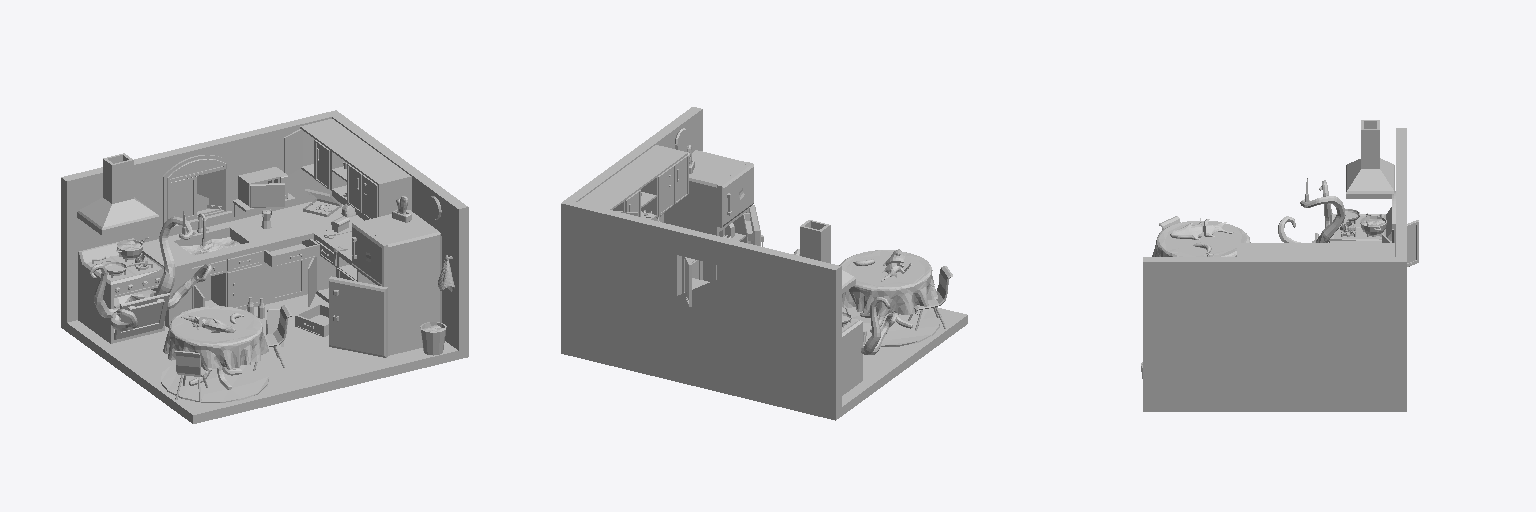
The model's file is Low Poly Messy Kitchen By EdwinRC.obj.
3 views of the same model, side by side, from view 1: azimuth 30°, elevation 25°; view 2: azimuth 150°, elevation 25°; view 3: azimuth 270°, elevation 25° (orthographic).
Visible parts, largest first — view 1: Window, Cylinder.003_Cylinder.035, Plane.002, Plane.001_Plane, Plane.003, Cube.013_Cube.045, Plane.000_Plane.051, Cube.011_Cube.029, Circle_Circle.001, Cube.015_Cube.043, Cylinder.002_Cylinder.050, Cube.000_Cube.036 (+2 smaller); view 2: Window, Plane.001_Plane, Plane.002, Cube.013_Cube.045, Plane.000_Plane.051, Plane.003, Circle_Circle.001, Cube.011_Cube.029, Cylinder.002_Cylinder.050; view 3: Window, Plane.003, Cube.011_Cube.029, Plane.002, Cube.013_Cube.045, Plane.000_Plane.051, Plane.005_cell.001_Plane.005_cell.007.
Part boxes in pixels (x1,y1,x2,y2): Window: (61,110,468,350); Cylinder.003_Cylinder.035: (142,202,363,336); Plane.002: (61,294,468,423); Plane.001_Plane: (329,210,441,357); Plane.003: (78,211,211,343); Cube.013_Cube.045: (284,119,411,218); Plane.000_Plane.051: (163,306,268,389); Cube.011_Cube.029: (77,153,158,235); Circle_Circle.001: (161,363,268,402); Cube.015_Cube.043: (233,167,295,216); Cylinder.002_Cylinder.050: (174,351,207,402); Cube.000_Cube.036: (420,322,446,355); Window: (561,107,841,411); Plane.001_Plane: (664,150,763,281); Plane.002: (561,307,967,420); Cube.013_Cube.045: (578,145,688,219); Plane.000_Plane.051: (839,250,937,332); Plane.003: (794,249,896,395); Circle_Circle.001: (842,307,939,346); Cube.011_Cube.029: (800,220,855,293); Cylinder.002_Cylinder.050: (908,266,952,330); Window: (1143,128,1418,402); Plane.003: (1278,178,1391,242); Cube.011_Cube.029: (1346,120,1394,198); Plane.002: (1143,403,1406,411); Cube.013_Cube.045: (1237,233,1394,256); Plane.000_Plane.051: (1152,218,1250,256); Plane.005_cell.001_Plane.005_cell.007: (1170,219,1233,239).
Bounding box in the file's own units: 5.75 × 3.29 × 4.83.